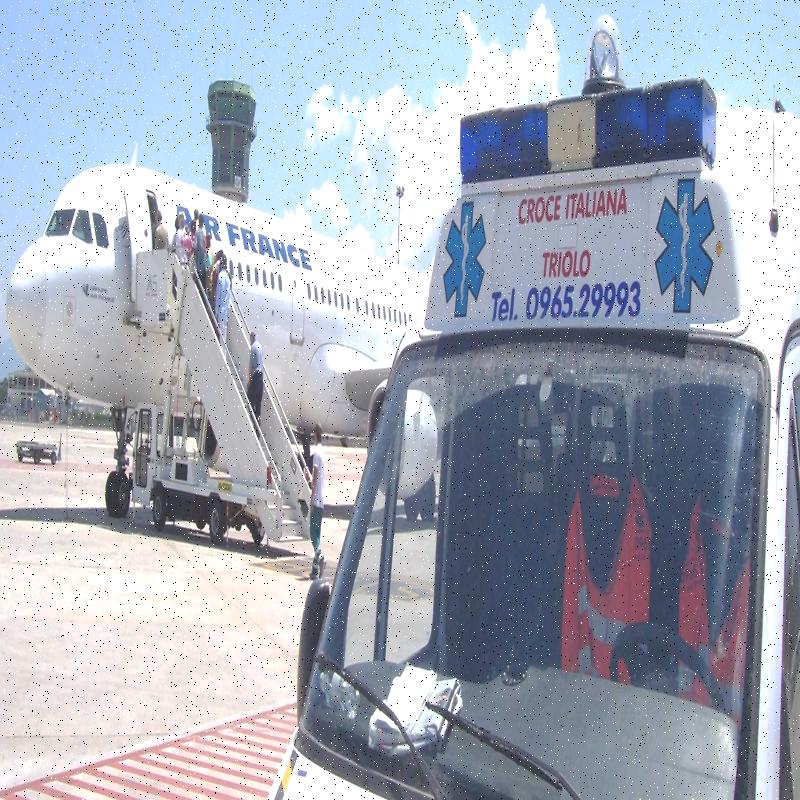AmbulanceSiren: (452, 74, 754, 200)
